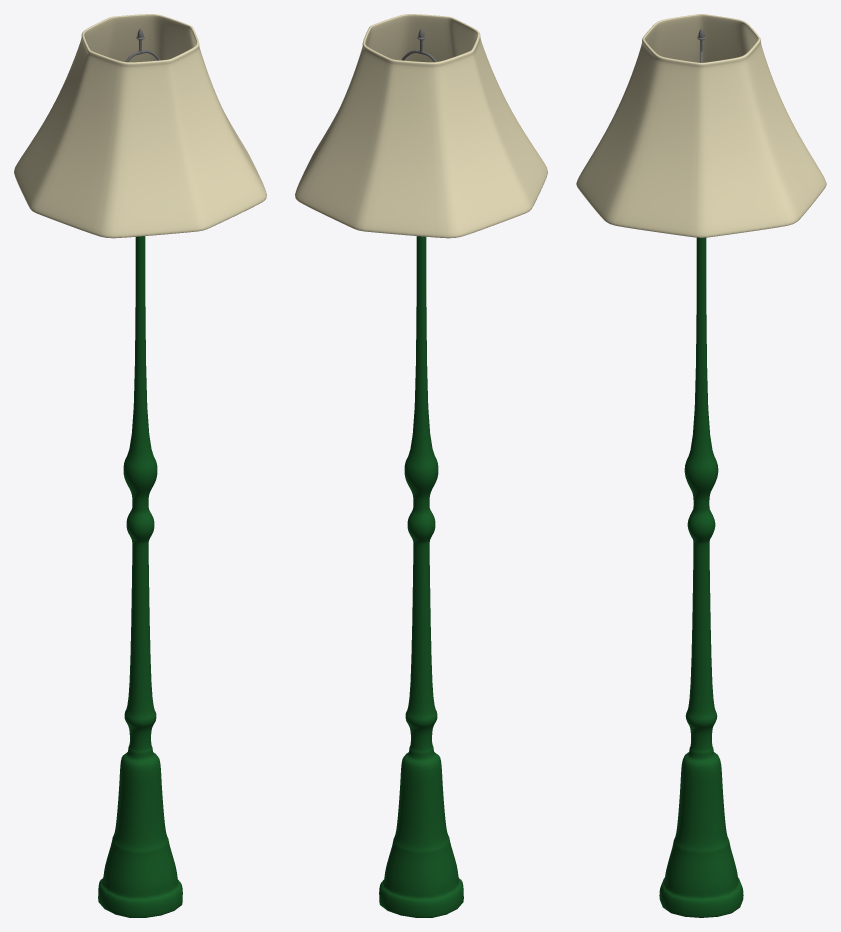
File: TallLamp.fbx
3 renders of one model, left to right at view 1: azimuth 30°, elevation 25°; view 2: azimuth 150°, elevation 25°; view 3: azimuth 270°, elevation 25°, orthographic.
Visible parts, largest first — view 1: polySurface381; view 2: polySurface381; view 3: polySurface381.
Part boxes in pixels (x1=…): polySurface381: x1=14, y1=14, x2=266, y2=917; polySurface381: x1=295, y1=14, x2=547, y2=917; polySurface381: x1=576, y1=14, x2=826, y2=917.
Bounding box in the file's own units: 80.21 × 309 × 80.21.
